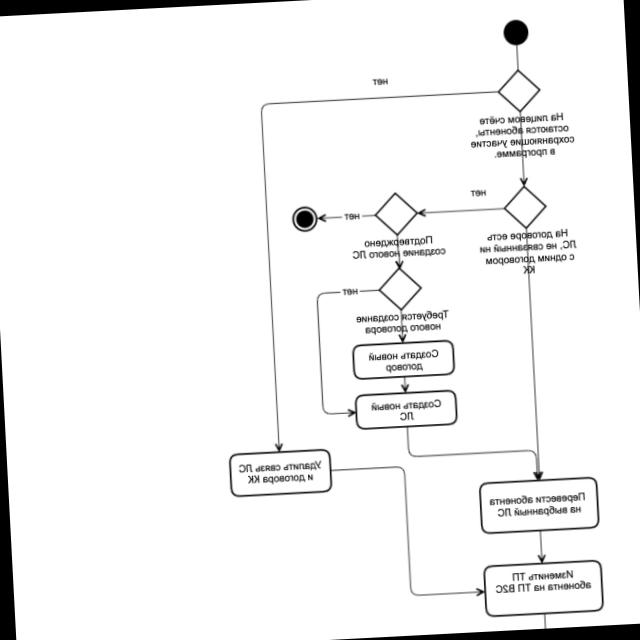arrow: (256, 88, 518, 452), (331, 460, 484, 605), (315, 287, 387, 420), (405, 419, 545, 487), (520, 229, 546, 480), (418, 203, 505, 219), (516, 112, 530, 187), (318, 209, 376, 225), (396, 309, 410, 343), (392, 234, 405, 269), (535, 530, 548, 563), (399, 376, 411, 394)
circle: (501, 19, 528, 46), (292, 207, 316, 231)
diamond: (502, 185, 547, 229), (373, 191, 417, 236), (377, 267, 421, 311), (497, 69, 540, 112)
rectangle: (483, 560, 603, 617), (479, 477, 599, 534), (228, 449, 331, 496), (354, 389, 457, 430), (351, 340, 455, 380)
text_region: (468, 110, 577, 162), (478, 227, 579, 278), (350, 233, 447, 262), (355, 308, 451, 337), (470, 188, 488, 199), (372, 77, 389, 87), (344, 212, 361, 222), (342, 287, 359, 297)
